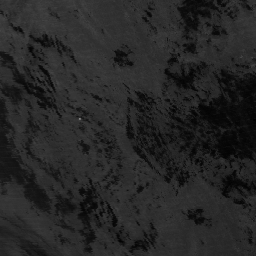Target: (76, 116, 83, 121)
